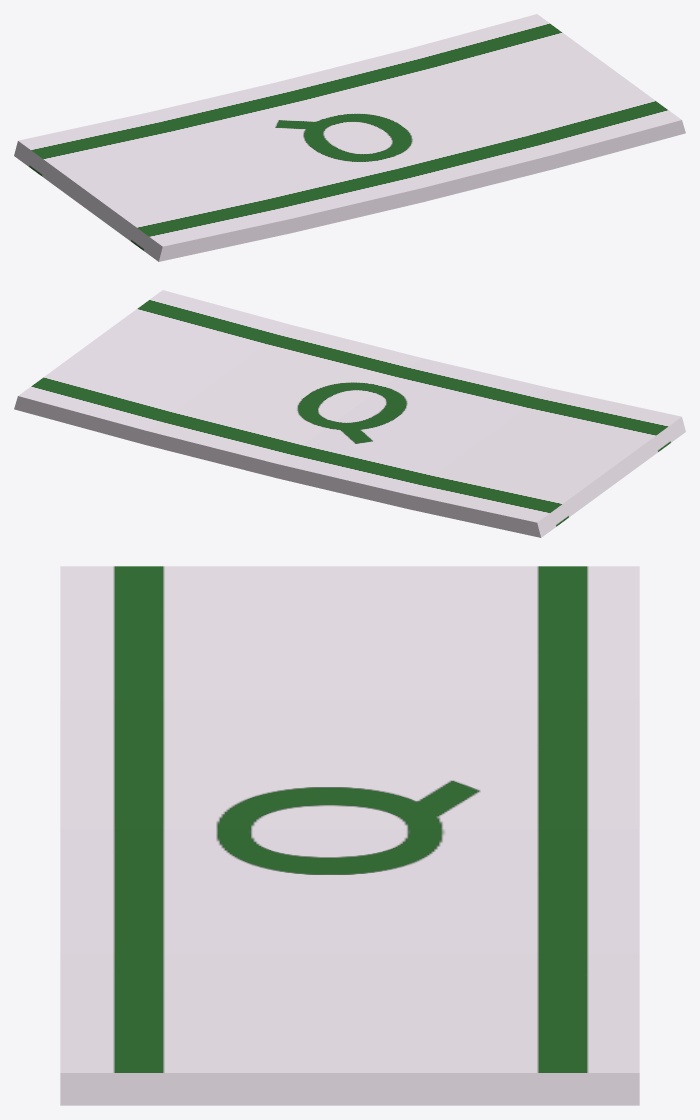
Rendered from Money.fbx.
The picture shows the model from 3 angles, top to bottom: view 1: azimuth 30°, elevation 25°; view 2: azimuth 150°, elevation 25°; view 3: azimuth 270°, elevation 25°; orthographic projection. The views are drawn at different scales.
Visible parts, largest first — view 1: pCube1; view 2: pCube1; view 3: pCube1.
Part boxes in pixels (x1,y1,x2,y2): pCube1: (14, 14, 685, 261); pCube1: (14, 290, 685, 537); pCube1: (60, 566, 639, 1105).
Bounding box in the file's own units: 270 × 9.34 × 128.
